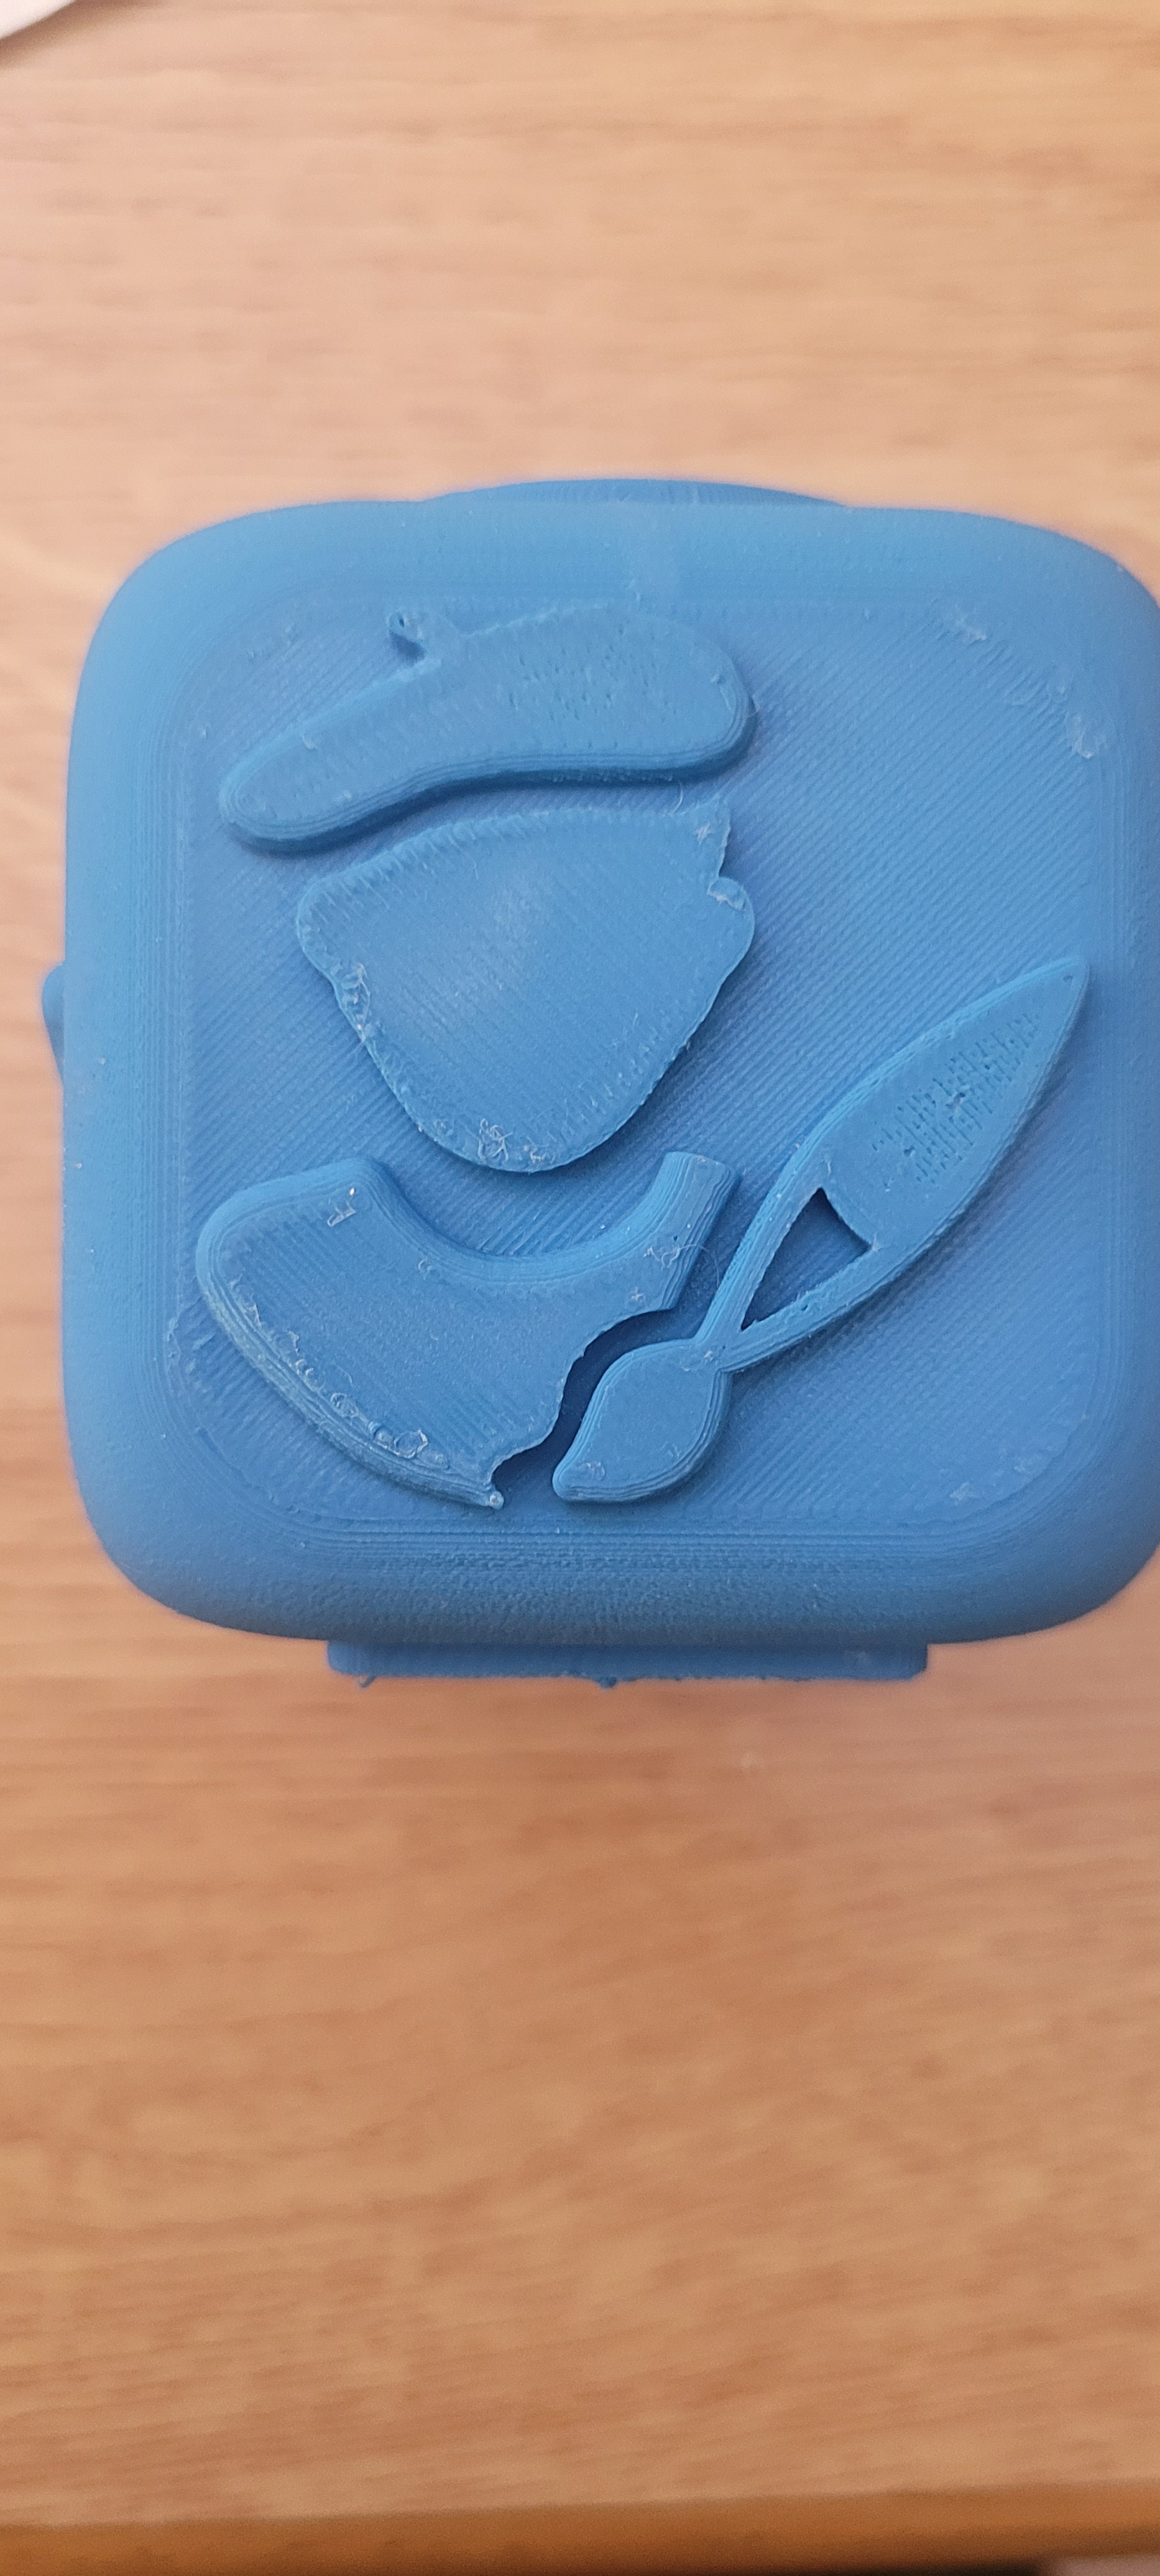Artist_Info: (46, 467, 1160, 1695)
